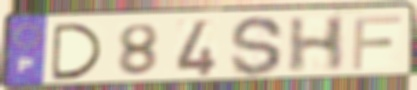4: (174, 17, 221, 78)
8: (116, 22, 161, 77)
D: (50, 22, 106, 83)
F: (349, 14, 404, 72)
H: (285, 13, 349, 75)
S: (229, 14, 287, 78)
